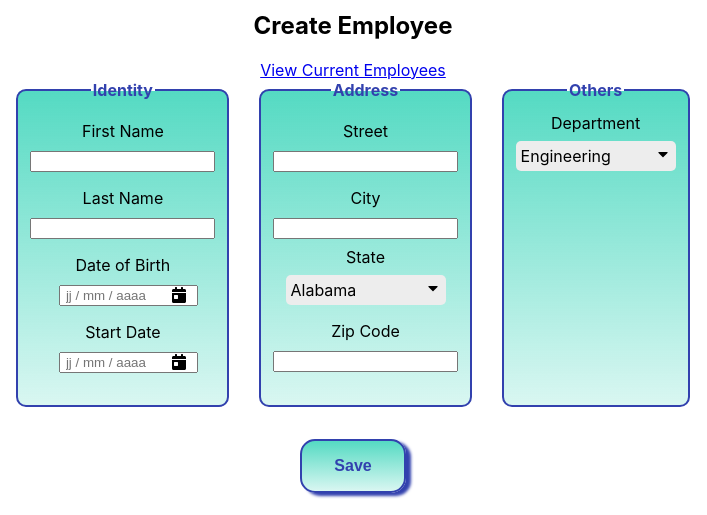
EmployeeCreate component › DropDown render selected option
The image size is (707, 515).
Click the text "Engineering": (566, 156) [521,146,611,166]
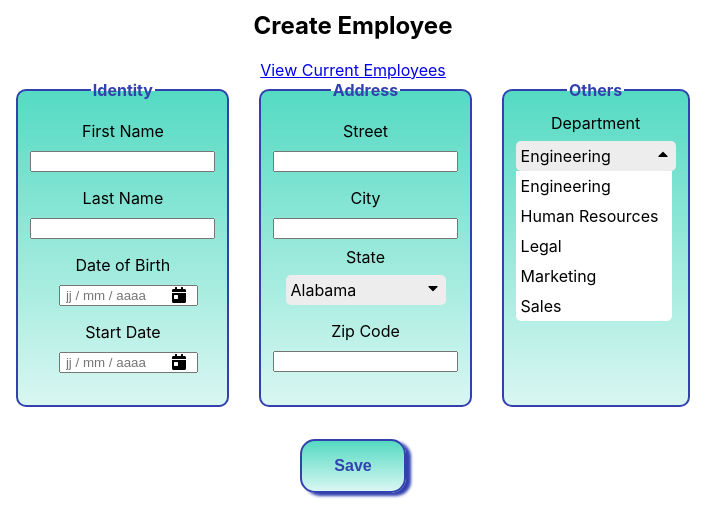
Check: the text with test id "option-Engineering" reads "Engineering", box [521,176,611,196]
Click the text "Alabama": (323, 290) [290,280,356,300]
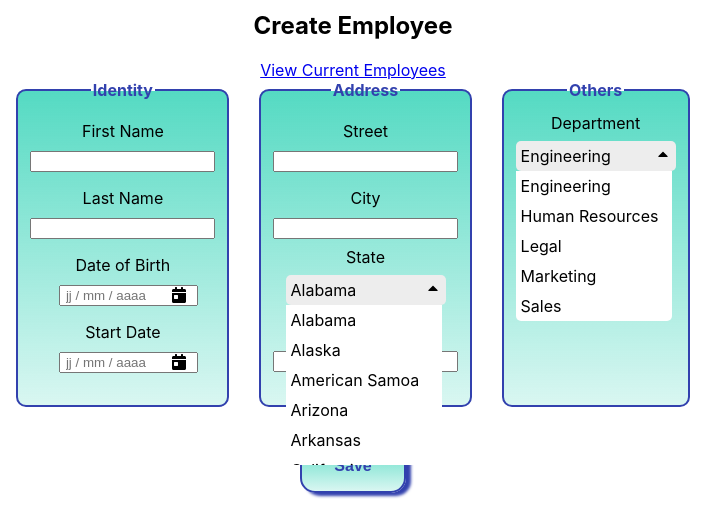
Check: the text with test id "option-Alabama" reads "Alabama", box [290,310,356,330]
